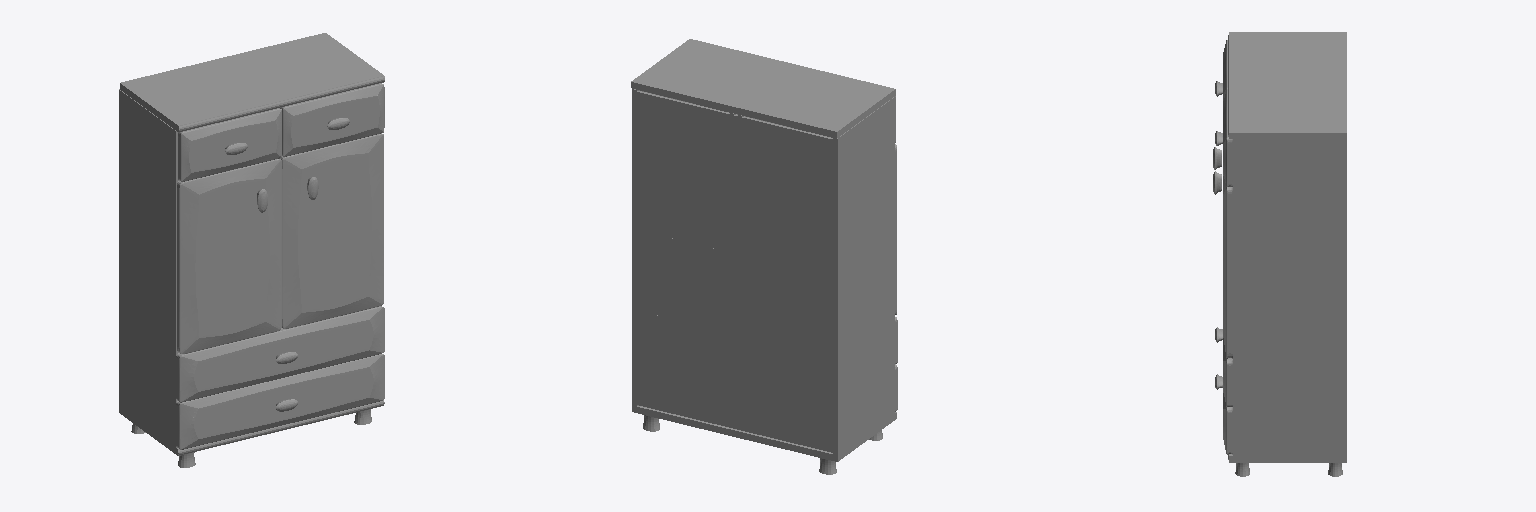
The model's file is cabinet.obj.
The picture shows the model from 3 angles: view 1: azimuth 30°, elevation 25°; view 2: azimuth 150°, elevation 25°; view 3: azimuth 270°, elevation 25°; orthographic projection.
Parts seen in each view (by area): view 1: tv_support_Walls.003_Cube.011, cabinetV1.008_Cube.034, cabinetV1.006_Cube.032, low_part.003_Cube.010, cabinetV1.003_Cube.028, cabinetV1.004_Cube.031, cabinetV1.002_Cube.023, cabinetV1.000_Cube.003, low_part.002_Cube.008; view 2: tv_support_Walls.010_Cube.016, tv_support_Walls.003_Cube.011, low_part.003_Cube.010, low_part.002_Cube.008, tv_support_Walls.004_Cube.012, tv_support_Walls.007_Cube.024, tv_support_Walls.008_Cube.026; view 3: tv_support_Walls.004_Cube.012, low_part.003_Cube.010, cabinetV1.006_Cube.032, low_part.002_Cube.008, cabinetV1.000_Cube.003, cabinetV1.003_Cube.028, cabinetV1.004_Cube.031.
Boxes of the visible parts, x1,y1,x2,y2 form: tv_support_Walls.003_Cube.011: [119, 89, 179, 447]; cabinetV1.008_Cube.034: [177, 159, 281, 353]; cabinetV1.006_Cube.032: [279, 133, 383, 328]; low_part.003_Cube.010: [120, 33, 384, 131]; cabinetV1.003_Cube.028: [176, 306, 384, 402]; cabinetV1.004_Cube.031: [176, 354, 384, 449]; cabinetV1.002_Cube.023: [178, 108, 281, 181]; cabinetV1.000_Cube.003: [280, 83, 384, 156]; low_part.002_Cube.008: [119, 400, 384, 455]; tv_support_Walls.010_Cube.016: [637, 91, 832, 452]; tv_support_Walls.003_Cube.011: [833, 97, 894, 455]; low_part.003_Cube.010: [631, 39, 895, 138]; low_part.002_Cube.008: [632, 406, 896, 461]; tv_support_Walls.004_Cube.012: [632, 89, 692, 406]; tv_support_Walls.007_Cube.024: [637, 311, 832, 362]; tv_support_Walls.008_Cube.026: [637, 230, 832, 281]; tv_support_Walls.004_Cube.012: [1233, 139, 1346, 455]; low_part.003_Cube.010: [1228, 32, 1346, 138]; cabinetV1.006_Cube.032: [1213, 171, 1232, 358]; low_part.002_Cube.008: [1228, 454, 1346, 462]; cabinetV1.000_Cube.003: [1215, 90, 1232, 186]; cabinetV1.003_Cube.028: [1215, 327, 1232, 406]; cabinetV1.004_Cube.031: [1215, 374, 1232, 454].
Size of the model in its own units: 0.7222 by 1.16 by 0.4072.